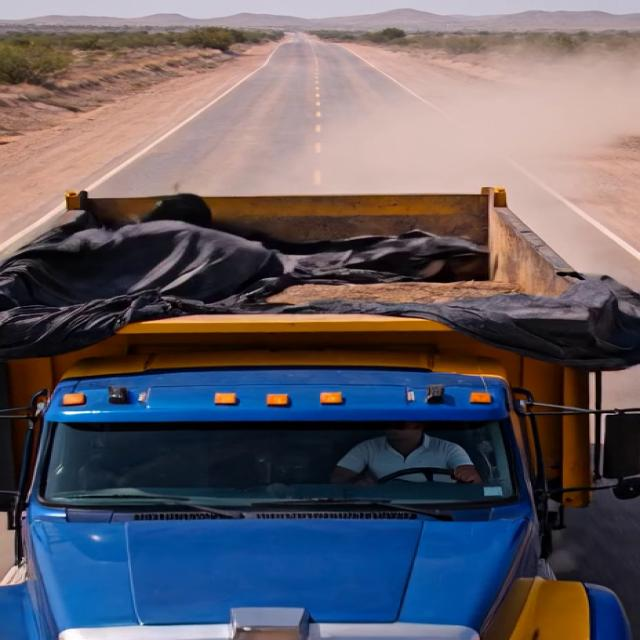trailer: (0, 183, 622, 347)
